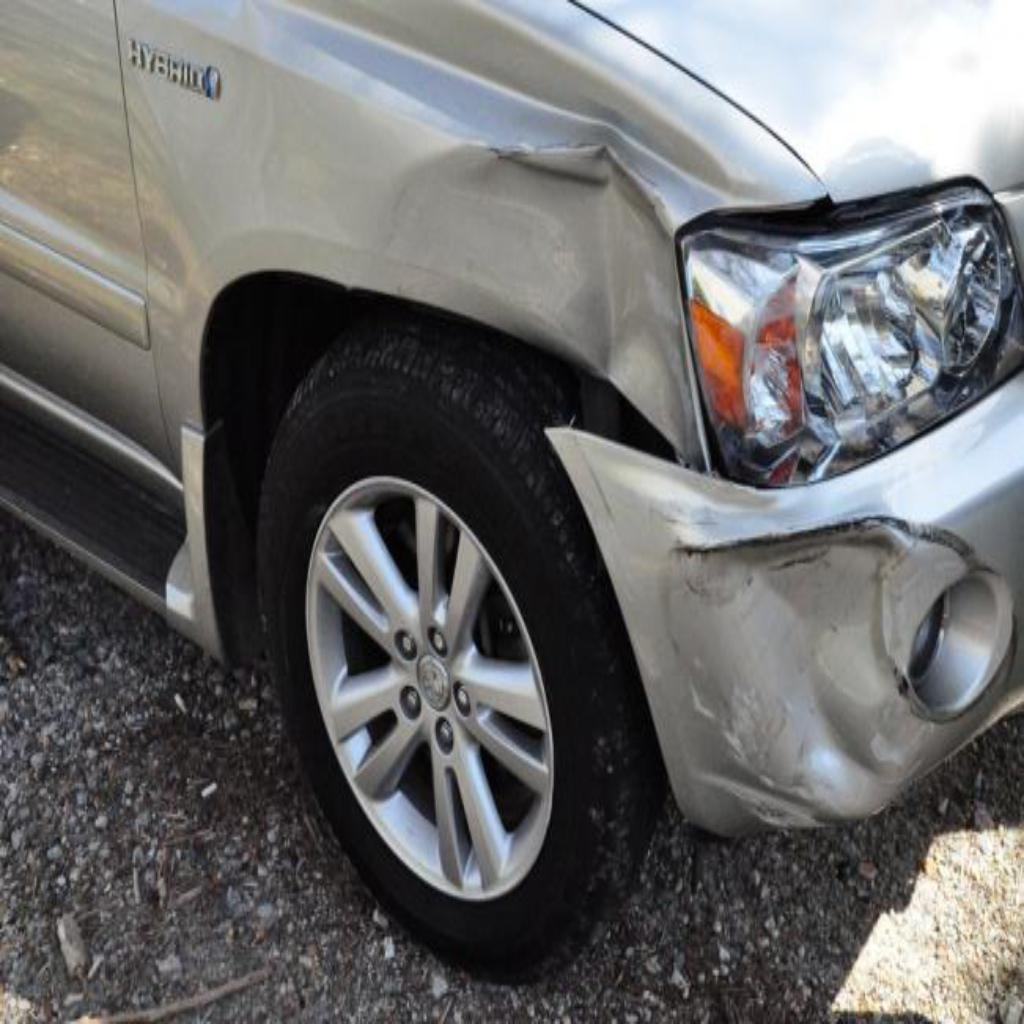Broken-glass: (678, 184, 1022, 476)
Dent: (375, 111, 738, 452), (642, 499, 958, 826)
Smashed: (363, 69, 1024, 837)
